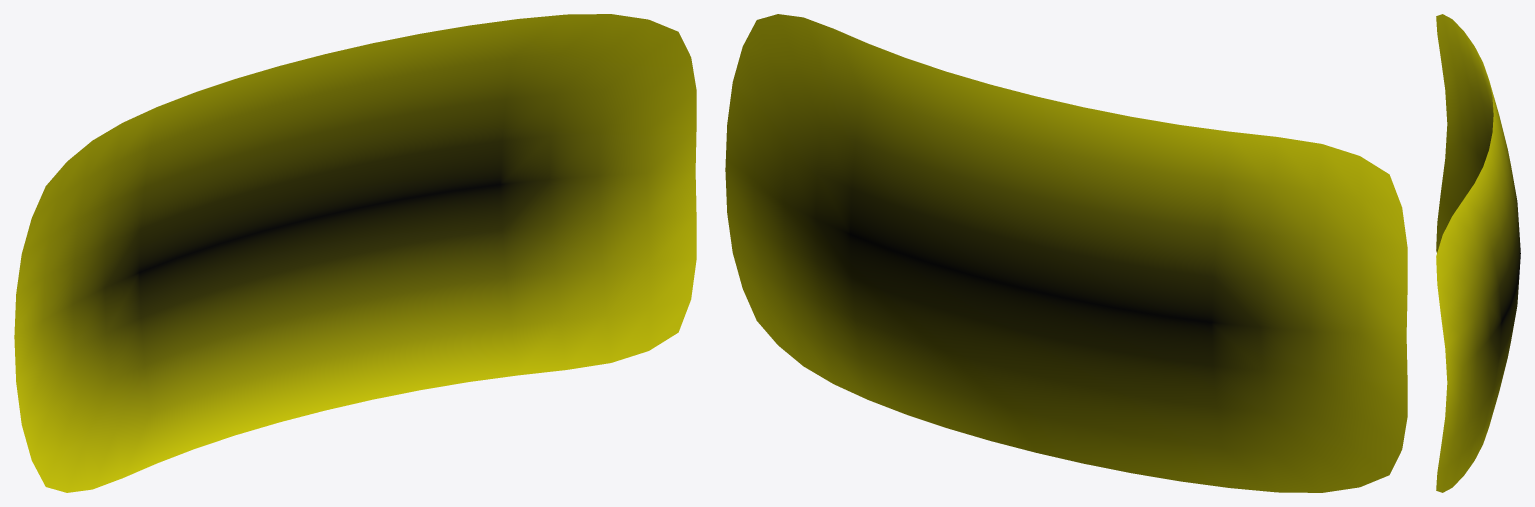
Rendered from MegaShield.glb.
3 views of the same model, side by side, from view 1: azimuth 30°, elevation 25°; view 2: azimuth 150°, elevation 25°; view 3: azimuth 270°, elevation 25° (orthographic). The views are drawn at different scales.
Visible parts, largest first — view 1: Origin MegaShield; view 2: Origin MegaShield; view 3: Origin MegaShield.
Boxes of the visible parts, bbox=[...] form: Origin MegaShield: bbox=[14, 14, 696, 492]; Origin MegaShield: bbox=[725, 14, 1407, 492]; Origin MegaShield: bbox=[1436, 14, 1520, 492].
Size of the model in its own units: 16 by 8 by 2.21.
